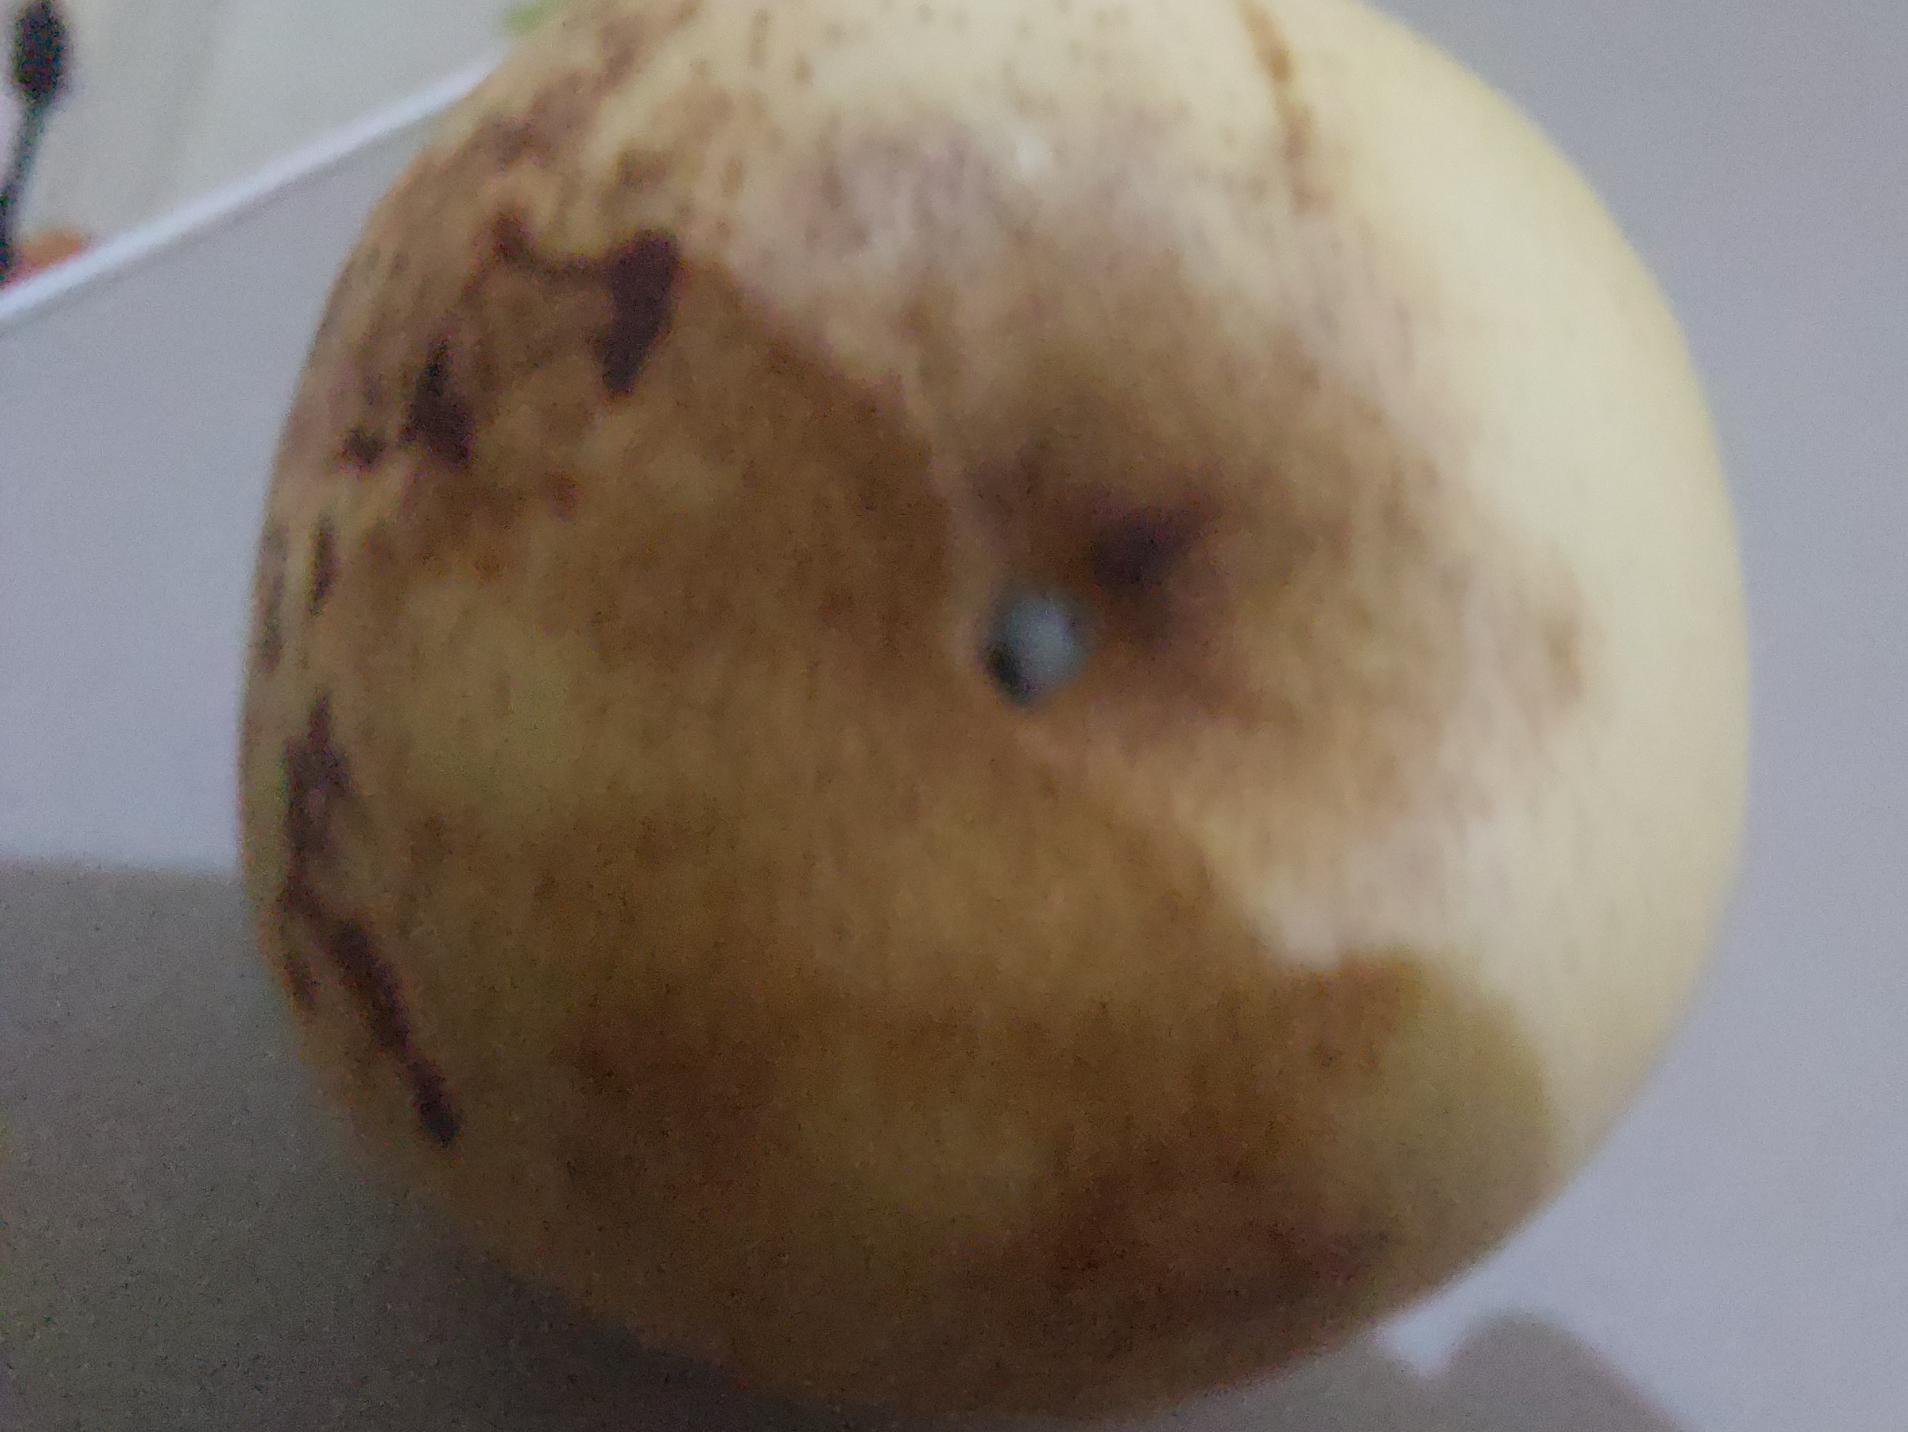Bad Pear: (235, 0, 1738, 1409)
